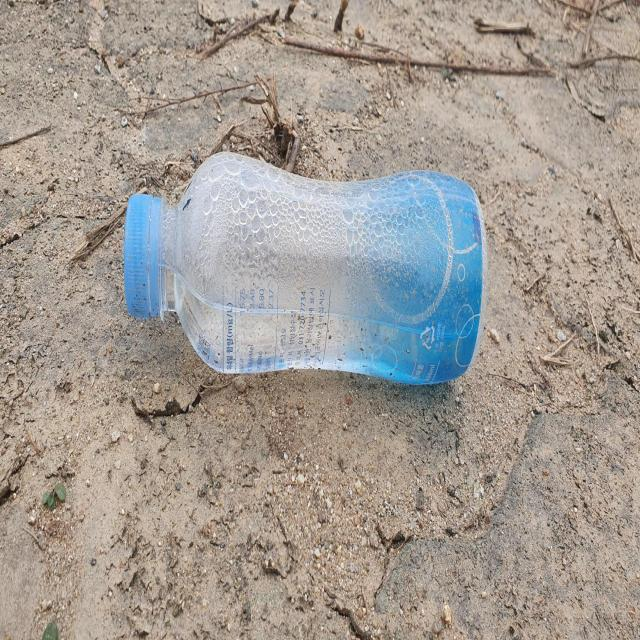plastic: (124, 151, 488, 384)
